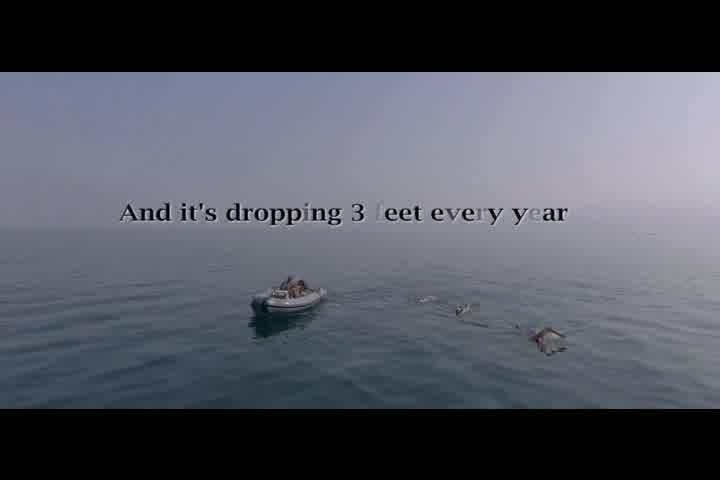human: (526, 330, 566, 348)
